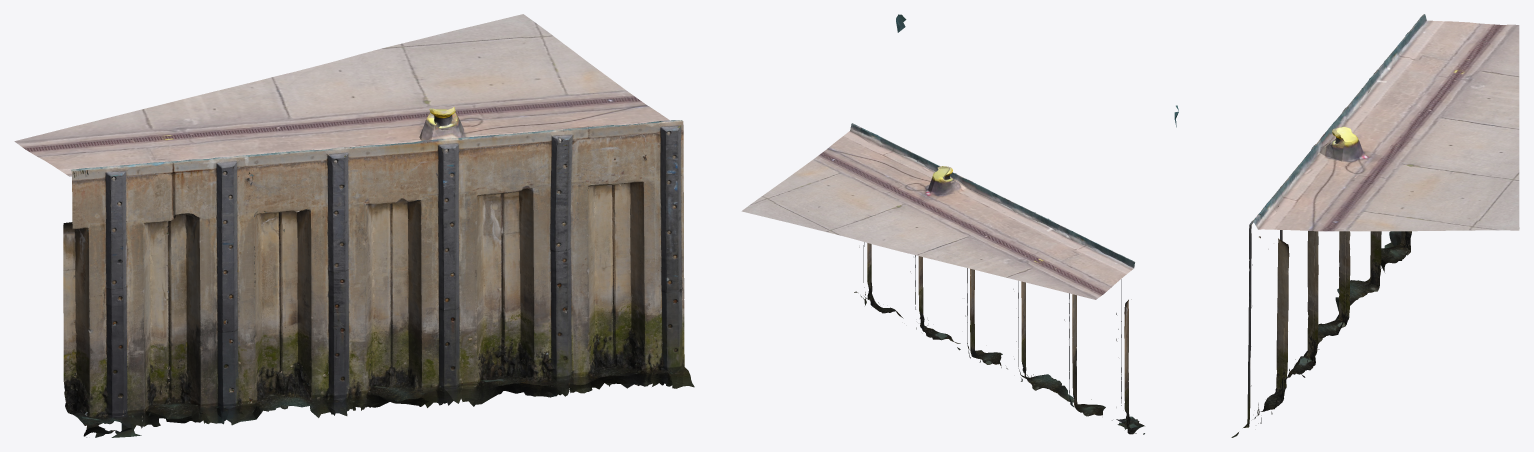
The picture shows the model from 3 angles, left to right: view 1: azimuth 30°, elevation 25°; view 2: azimuth 150°, elevation 25°; view 3: azimuth 270°, elevation 25°; orthographic projection. The views are drawn at different scales.
Size of the model in its own units: 8.36 by 6.12 by 5.85.
Materials: 3 (3 with a texture image).
